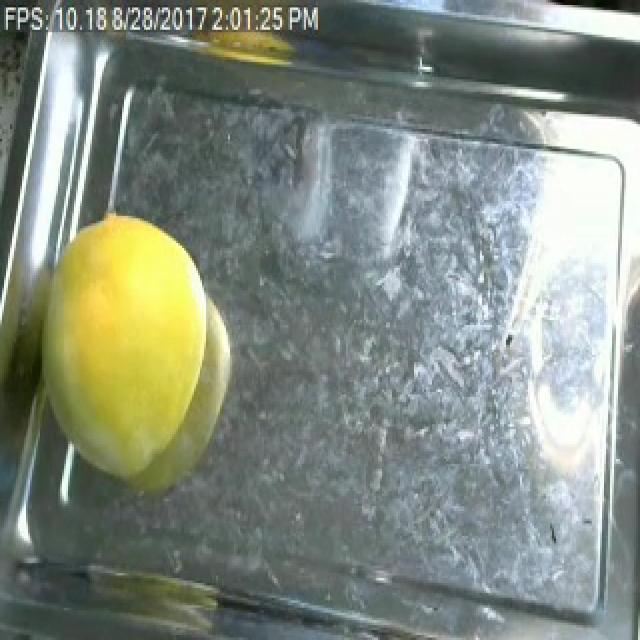fruit: (4, 198, 254, 506), (4, 538, 238, 640)
